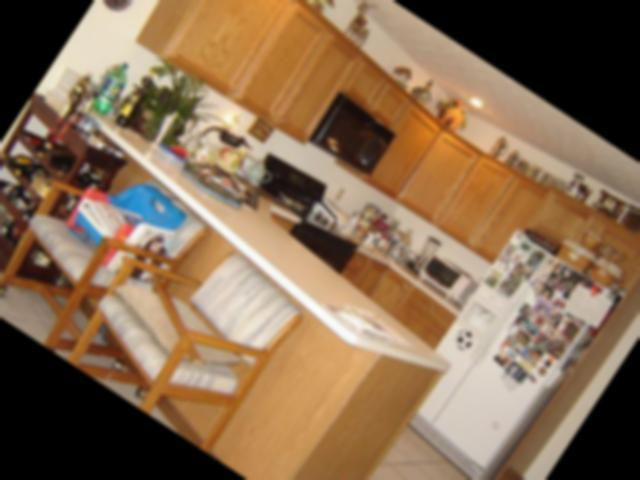Electrodomestico: (394, 232, 610, 480)
